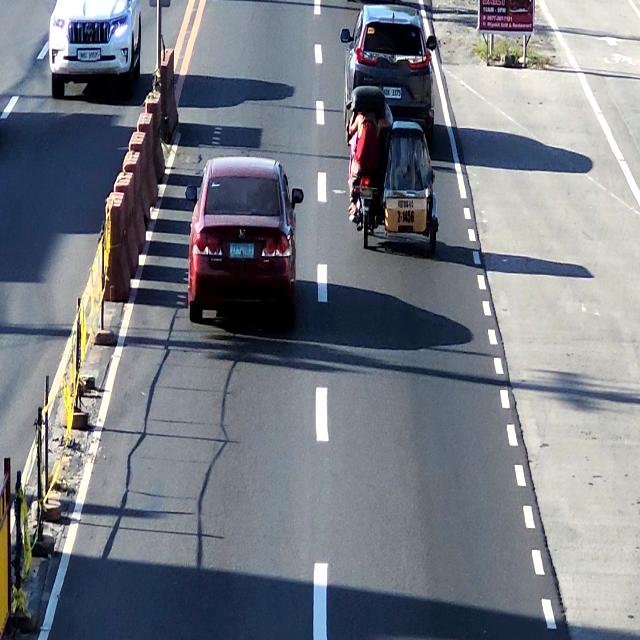Car: (188, 154, 298, 321), (341, 5, 436, 93)
License-Plate: (229, 240, 255, 256), (76, 49, 104, 63)
Tricycle: (337, 85, 438, 256)
